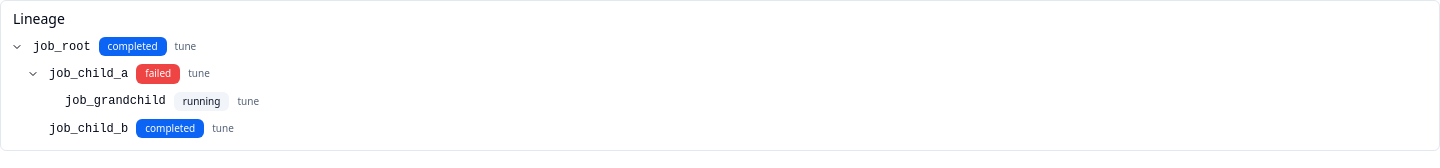
JobLineageTree › collapses a subtree when the toggle is clicked
// First toggle is the root, second is job_child_a.
Click the button named "Collapse" in the row of "failed" at (33, 74), box [25, 66, 41, 82]
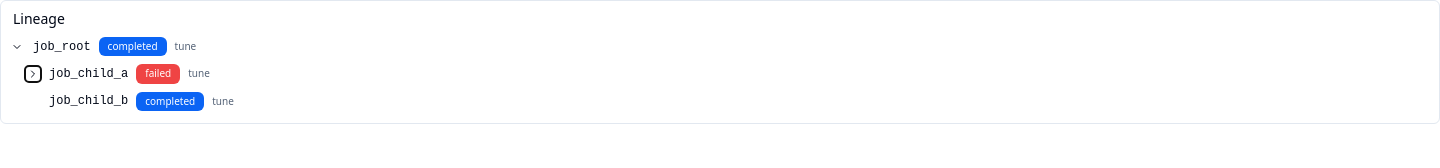
expect the button "job_grandchild" is gone: met
